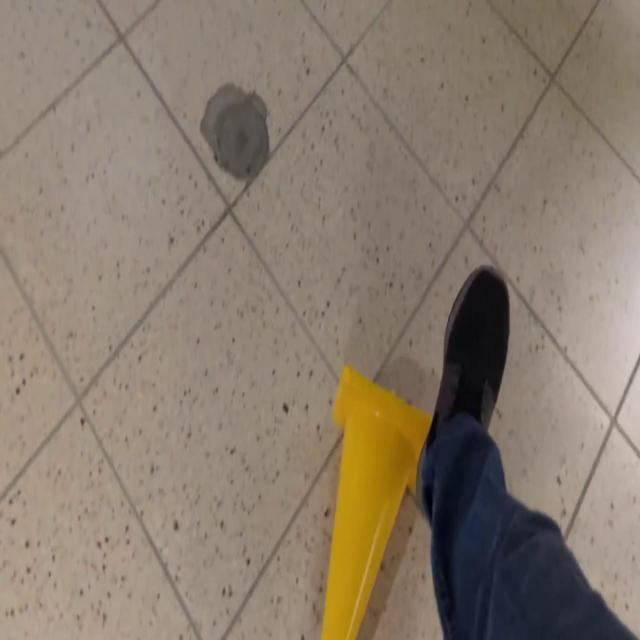frc_cone: (321, 361, 428, 640)
